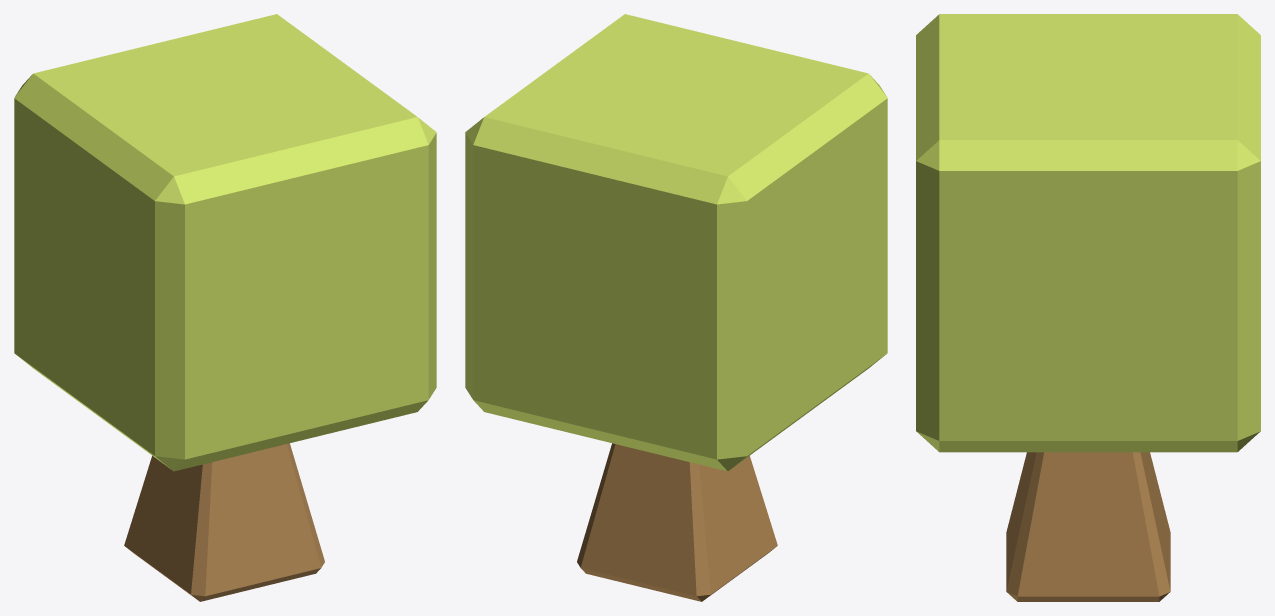
Rendered from petit_arbre_01.glb.
3 views of the same model, side by side, from view 1: azimuth 30°, elevation 25°; view 2: azimuth 150°, elevation 25°; view 3: azimuth 270°, elevation 25° (orthographic). The views are drawn at different scales.
Parts seen in each view (by area): view 1: Cube.016, Tronc.002; view 2: Cube.016, Tronc.002; view 3: Cube.016, Tronc.002.
Boxes of the visible parts, left/top/right/bottom form: Cube.016: left=14, top=14, right=436, bottom=471; Tronc.002: left=124, top=443, right=324, bottom=601; Cube.016: left=465, top=14, right=887, bottom=471; Tronc.002: left=577, top=443, right=777, bottom=601; Cube.016: left=916, top=14, right=1260, bottom=452; Tronc.002: left=1006, top=452, right=1170, bottom=601.
Size of the model in its own units: 2.74 by 4.35 by 2.74.
